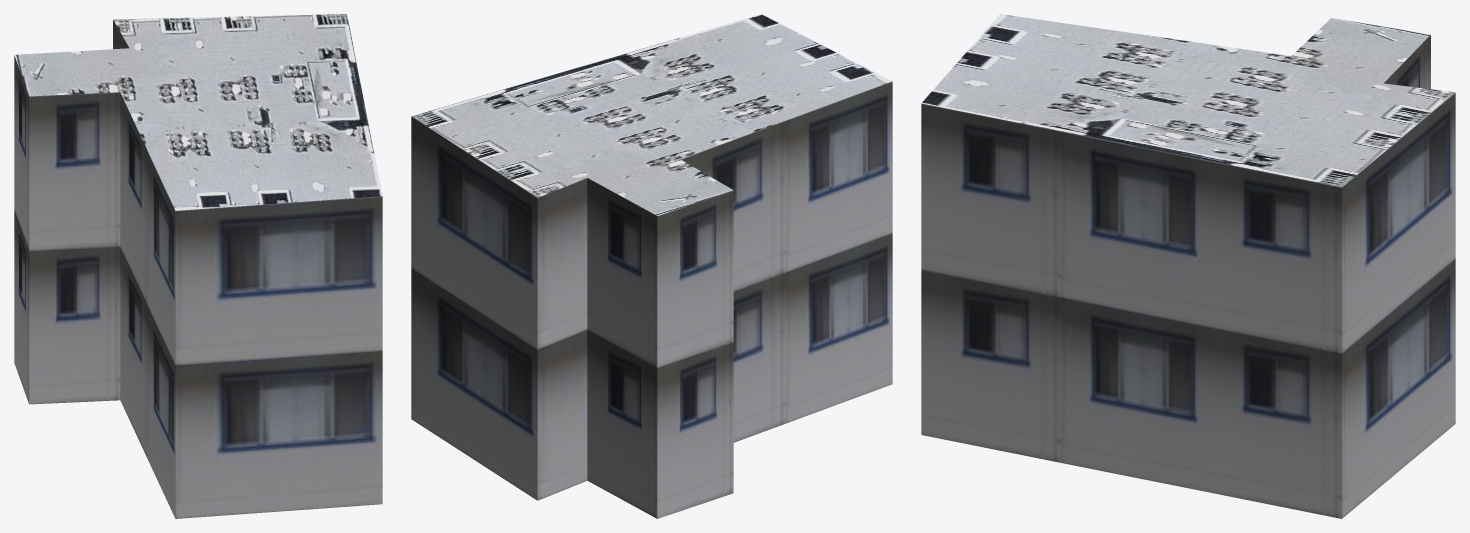
Rendered from ResTex__2583.fbx.
3 views of the same model, side by side, from view 1: azimuth 30°, elevation 25°; view 2: azimuth 150°, elevation 25°; view 3: azimuth 270°, elevation 25° (orthographic). The views are drawn at different scales.
Parts seen in each view (by area): view 1: CityEngineMaterial_9_m, CityEngineMaterial_8_m; view 2: CityEngineMaterial_9_m, CityEngineMaterial_8_m; view 3: CityEngineMaterial_9_m, CityEngineMaterial_8_m.
Boxes of the visible parts, left/top/right/bottom form: CityEngineMaterial_9_m: left=14, top=20, right=382, bottom=518; CityEngineMaterial_8_m: left=14, top=14, right=382, bottom=210; CityEngineMaterial_9_m: left=411, top=81, right=892, bottom=518; CityEngineMaterial_8_m: left=412, top=14, right=891, bottom=215; CityEngineMaterial_9_m: left=921, top=35, right=1455, bottom=518; CityEngineMaterial_8_m: left=921, top=14, right=1455, bottom=187.
Size of the model in its own units: 6.74 by 6 by 8.77.
Materials: 2 (2 with a texture image).
